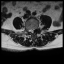CCS_stenosis: (31, 27, 33, 34)
LFS_severe_stenosis: (34, 26, 36, 30)
LLS_normal: (33, 27, 34, 33)
RFS_normal: (28, 27, 30, 33)
RLS_normal: (30, 27, 31, 34)
